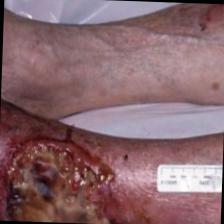wound-ulser: (0, 130, 125, 224)
